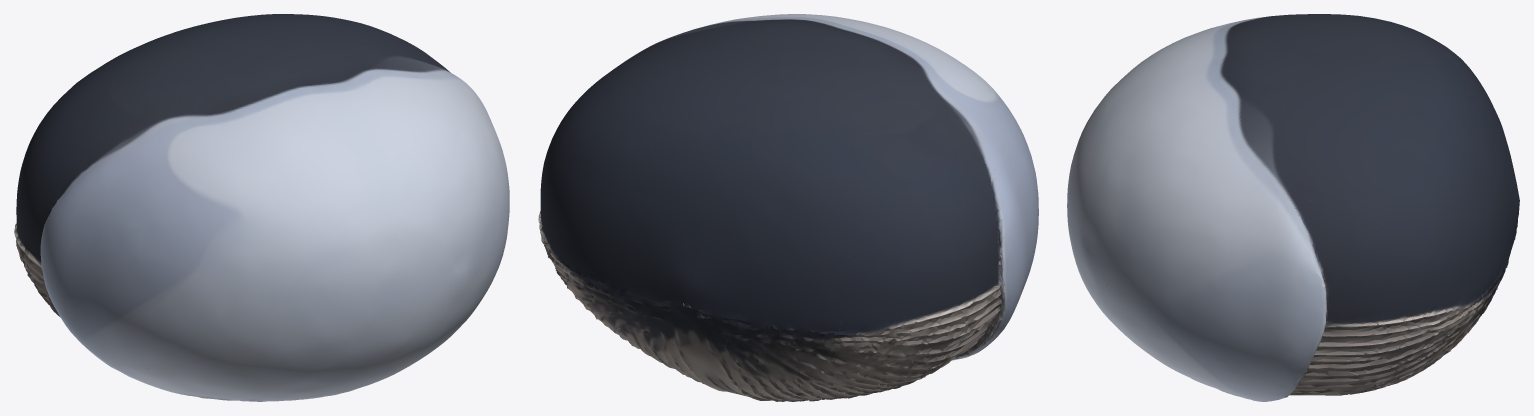
Rendered from Tundra_SnowBoulder.glb.
3 renders of one model, left to right at view 1: azimuth 30°, elevation 25°; view 2: azimuth 150°, elevation 25°; view 3: azimuth 270°, elevation 25°, orthographic.
Visible parts, largest first — view 1: Tundra_SnowBoulder; view 2: Tundra_SnowBoulder; view 3: Tundra_SnowBoulder.
Part boxes in pixels (x1=…): Tundra_SnowBoulder: x1=14, y1=14, x2=509, y2=401; Tundra_SnowBoulder: x1=538, y1=14, x2=1038, y2=401; Tundra_SnowBoulder: x1=1067, y1=14, x2=1519, y2=401.
Bounding box in the file's own units: 1.22 × 0.85 × 1.1.
1 material, 1 textured.
